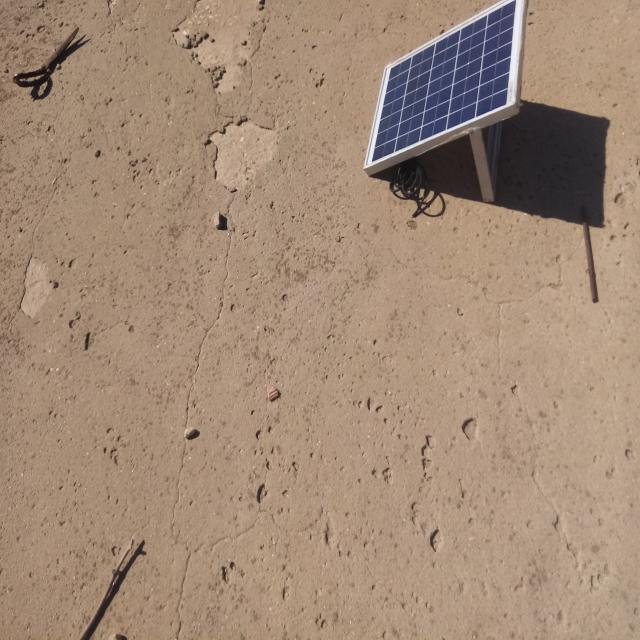no faulty: (365, 0, 525, 167)
